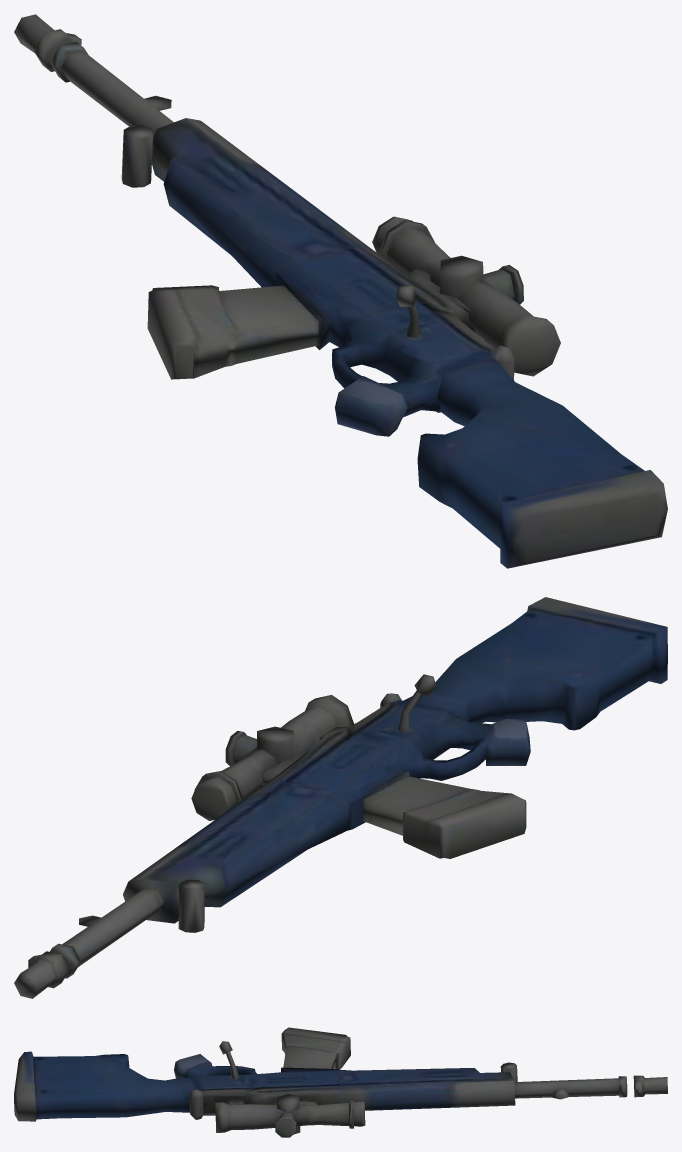
Rendered from m_long_bow.fbx.
3 views of the same model, one above another, from view 1: azimuth 30°, elevation 25°; view 2: azimuth 150°, elevation 25°; view 3: azimuth 270°, elevation 25° (orthographic). The views are drawn at different scales.
Parts seen in each view (by area): view 1: tripo_node_e51536e9-b75d-4092-9df0-c0b0d59209d5; view 2: tripo_node_e51536e9-b75d-4092-9df0-c0b0d59209d5; view 3: tripo_node_e51536e9-b75d-4092-9df0-c0b0d59209d5.
Part boxes in pixels (x1,y1,x2,y2): tripo_node_e51536e9-b75d-4092-9df0-c0b0d59209d5: (14, 14, 667, 568); tripo_node_e51536e9-b75d-4092-9df0-c0b0d59209d5: (14, 597, 667, 998); tripo_node_e51536e9-b75d-4092-9df0-c0b0d59209d5: (14, 1027, 667, 1137).
Bounding box in the file's own units: 0.3604 × 0.1233 × 1.14.
Materials: 1 (1 with a texture image).
